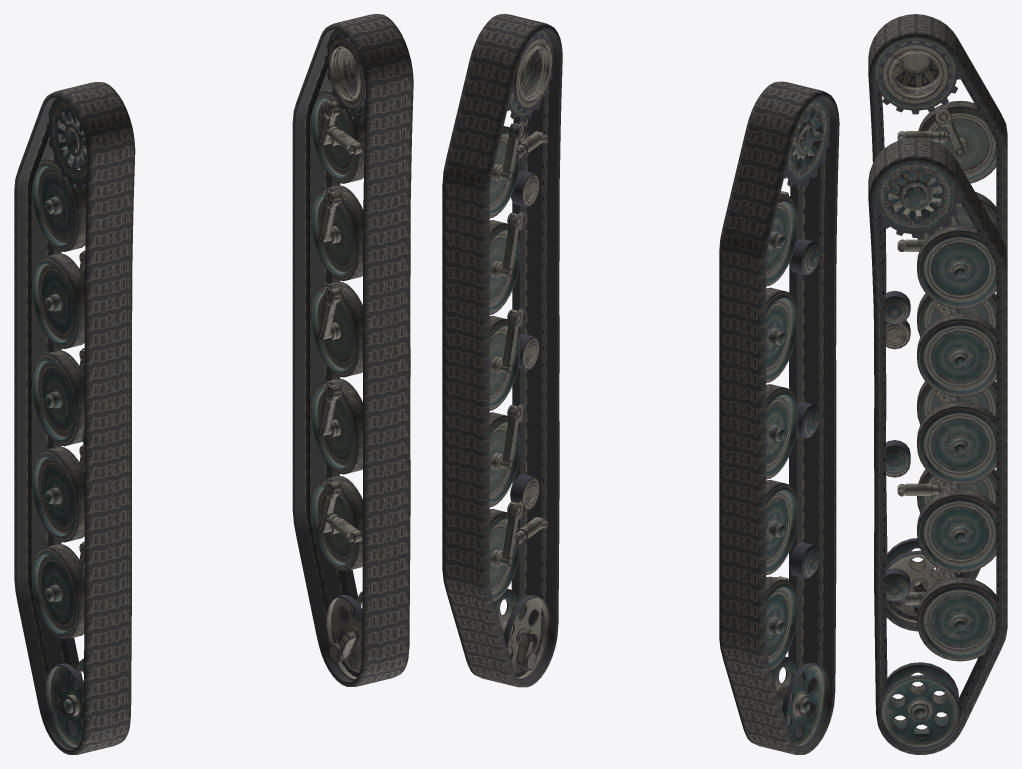
The model's file is Chassis.glb.
The picture shows the model from 3 angles, left to right: view 1: azimuth 30°, elevation 25°; view 2: azimuth 150°, elevation 25°; view 3: azimuth 270°, elevation 25°; orthographic projection. The views are drawn at different scales.
Visible parts, largest first — view 1: set_1_group_0, set_0_group_0, set_2_group_0, set_3_group_0; view 2: set_0_group_0, set_1_group_0, set_3_group_0, set_2_group_0; view 3: set_3_group_0, set_1_group_0, set_2_group_0, set_0_group_0.
Boxes of the visible parts, x1,y1,x2,y2 form: set_1_group_0: (292,14,413,686); set_0_group_0: (14,82,135,754); set_2_group_0: (31,97,87,749); set_3_group_0: (311,30,366,680); set_0_group_0: (719,81,839,754); set_1_group_0: (442,14,562,687); set_3_group_0: (489,30,553,680); set_2_group_0: (766,97,830,748); set_3_group_0: (873,161,996,748); set_1_group_0: (868,137,1007,754); set_2_group_0: (873,38,996,624); set_0_group_0: (868,14,1007,631).
Bounding box in the file's own units: 2.51 × 4.88 × 1.03.
4 materials, 4 textured.
